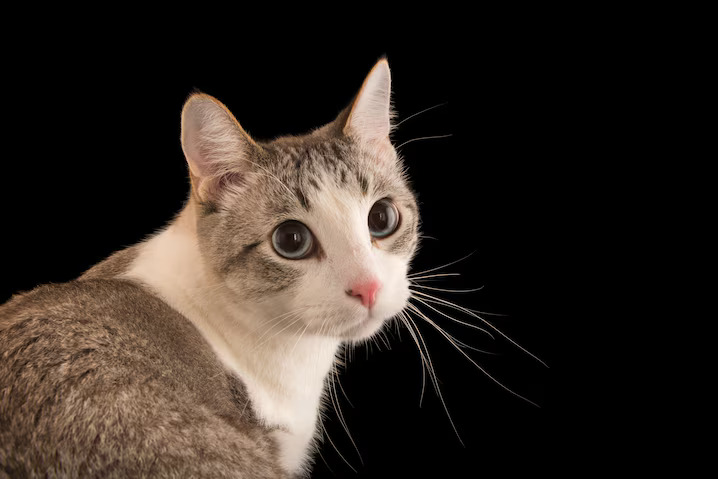cat: (1, 56, 551, 478)
cat-eyes: (272, 221, 319, 258), (368, 197, 402, 240)
cat-head: (180, 56, 420, 342)
cat-nose: (314, 188, 384, 308)
cat-whiskers: (391, 255, 548, 451), (206, 301, 366, 462)
pointy-ears: (180, 91, 267, 202), (334, 57, 392, 146)
